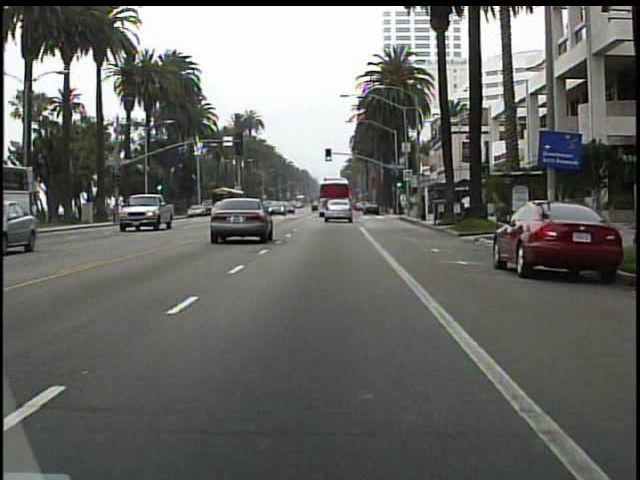person: (458, 191, 474, 221)
